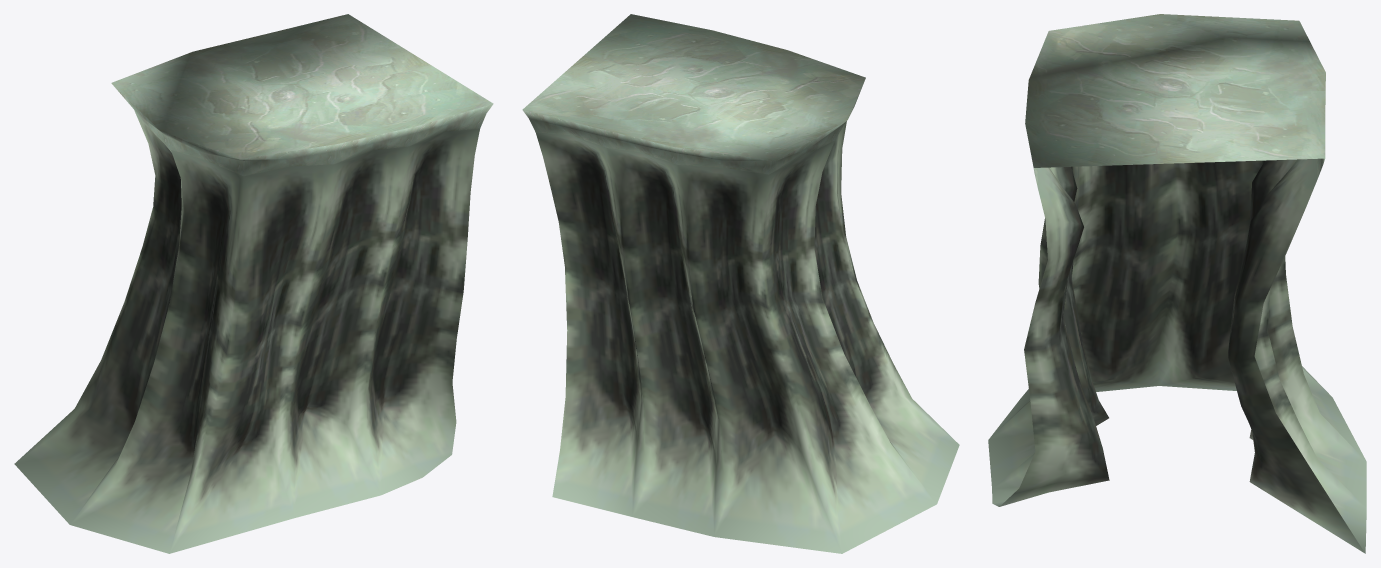
File: TROLLHOLE02_MAINCAVEPLATFORM02.fbx
The picture shows the model from 3 angles, left to right: view 1: azimuth 30°, elevation 25°; view 2: azimuth 150°, elevation 25°; view 3: azimuth 270°, elevation 25°; orthographic projection. The views are drawn at different scales.
Visible parts, largest first — view 1: TROLLHOLE02_MAINCAVEPLATFORM02; view 2: TROLLHOLE02_MAINCAVEPLATFORM02; view 3: TROLLHOLE02_MAINCAVEPLATFORM02.
Part boxes in pixels (left/top/right/bottom): TROLLHOLE02_MAINCAVEPLATFORM02: left=14, top=14, right=493, bottom=553; TROLLHOLE02_MAINCAVEPLATFORM02: left=522, top=14, right=959, bottom=553; TROLLHOLE02_MAINCAVEPLATFORM02: left=988, top=14, right=1366, bottom=553.
Size of the model in its own units: 51756 by 49860 by 40509.
Materials: 2 (2 with a texture image).
